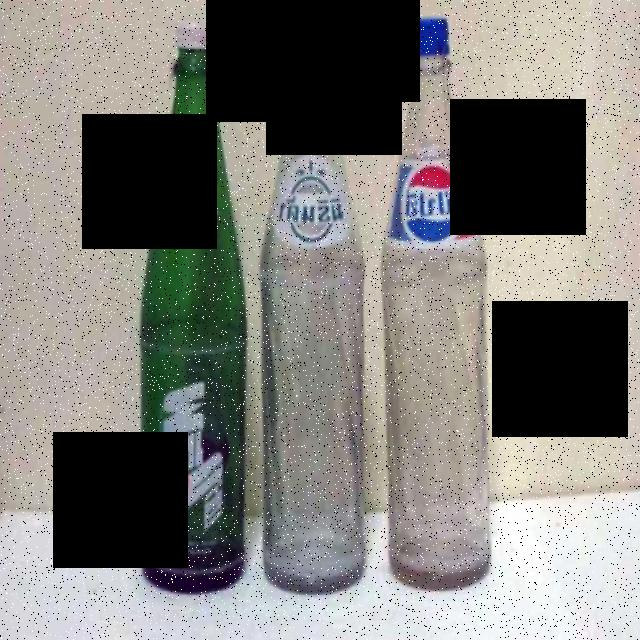glass-bottle: (125, 37, 251, 606), (256, 11, 370, 602), (383, 8, 497, 598)
